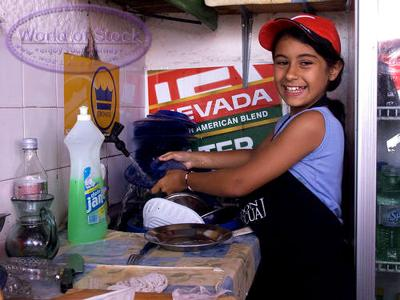person: (151, 14, 350, 298)
